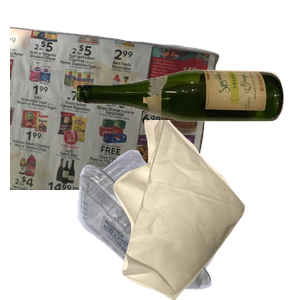glass: (74, 67, 300, 181)
paper: (10, 21, 222, 201)
plastic: (75, 147, 289, 300)
trash: (111, 120, 300, 300)
